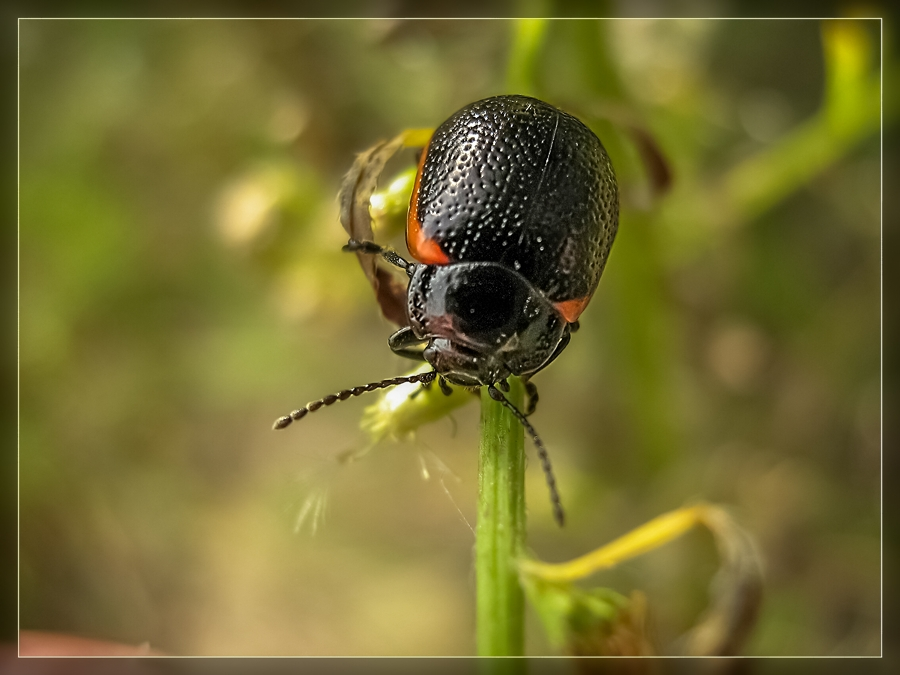Chrysolina_gypsophila: (270, 83, 614, 534)
